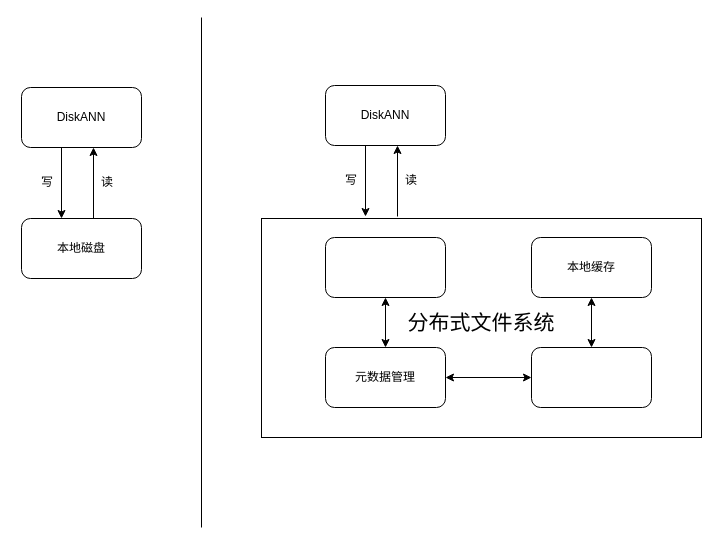
Image size: 719x546. Some labels were removed from this diagram. The box of each missing label's shape, as (x1, y1, x2, y2) in pixels:
元数据缓存: (324, 236, 446, 298)
对象存储: (530, 346, 652, 408)
